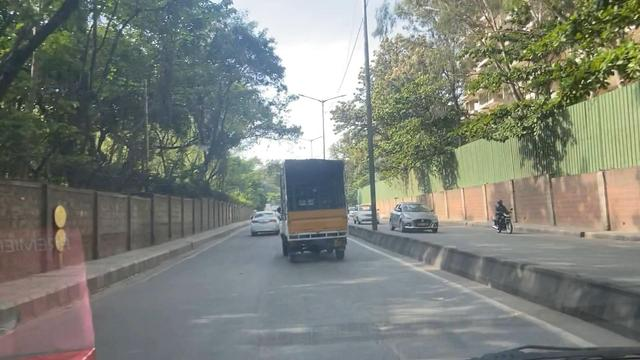HMV: (272, 151, 356, 268)
